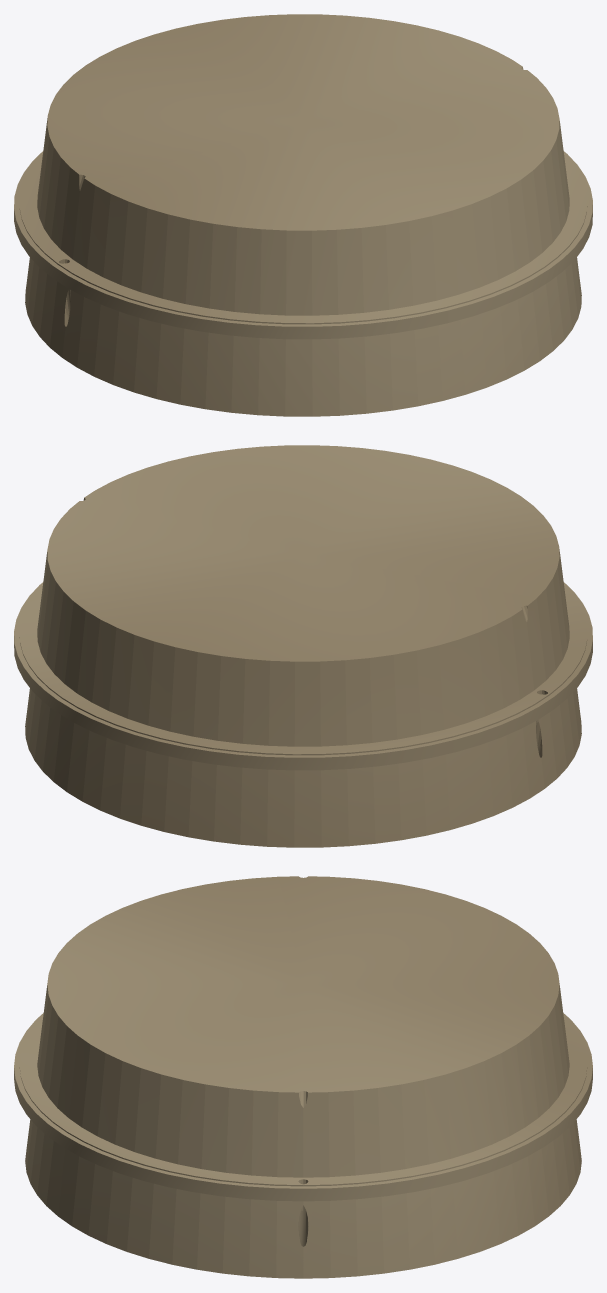
Rendered from pedestal.glb.
3 renders of one model, top to bottom at view 1: azimuth 30°, elevation 25°; view 2: azimuth 150°, elevation 25°; view 3: azimuth 270°, elevation 25°, orthographic.
Visible parts, largest first — view 1: Pedestal_Mesh; view 2: Pedestal_Mesh; view 3: Pedestal_Mesh.
Part boxes in pixels (x1,y1,x2,y2): Pedestal_Mesh: (14, 14, 592, 416); Pedestal_Mesh: (14, 445, 592, 847); Pedestal_Mesh: (14, 876, 592, 1278).
Size of the model in its own units: 2.08 by 0.7 by 2.08.
